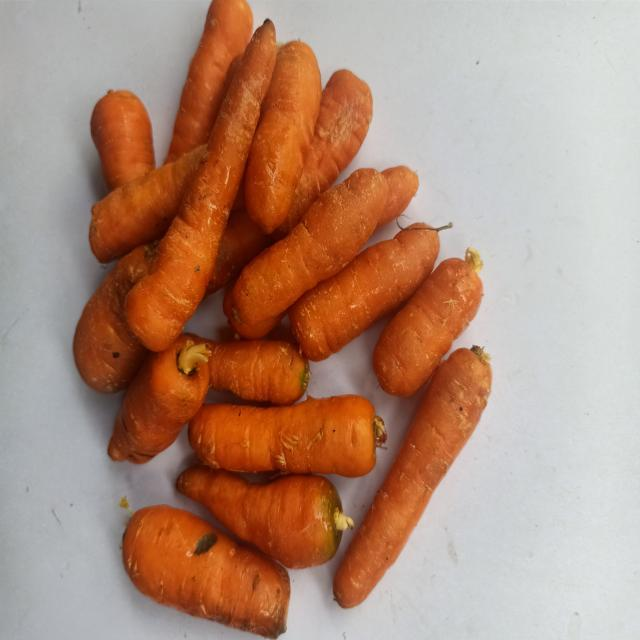Carrot: (125, 19, 276, 351), (333, 346, 492, 609), (226, 166, 418, 335), (122, 506, 290, 639), (288, 228, 440, 361), (289, 228, 440, 361), (176, 465, 354, 569), (188, 395, 387, 477), (373, 257, 483, 396), (245, 40, 322, 233), (108, 335, 209, 463), (205, 340, 310, 405)
